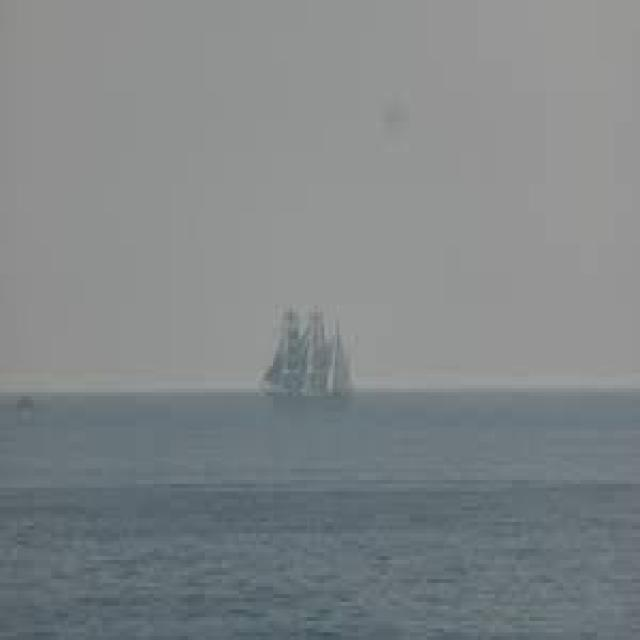fishing boat: (260, 298, 358, 401)
